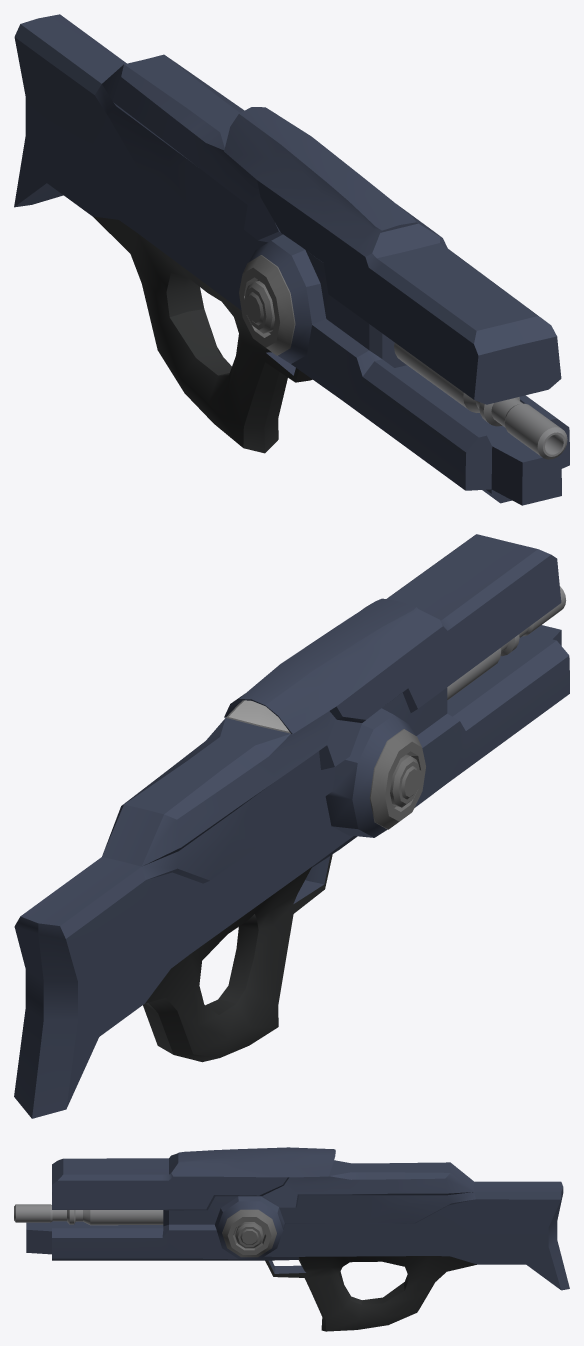
File: ALF_WEAPON_V3.fbx
3 renders of one model, top to bottom at view 1: azimuth 30°, elevation 25°; view 2: azimuth 150°, elevation 25°; view 3: azimuth 270°, elevation 25°, orthographic. The views are drawn at different scales.
Parts seen in each view (by area): view 1: PRACA NAD TYM.008, Cylinder_007.003, PRACA NAD TYM.010; view 2: PRACA NAD TYM.008, PRACA NAD TYM.010, Cylinder_007.003; view 3: PRACA NAD TYM.008, Cylinder_007.003, PRACA NAD TYM.009.
Part boxes in pixels (box(x1,y1,x2,y2)): PRACA NAD TYM.008: box(14, 14, 569, 505); Cylinder_007.003: box(394, 342, 567, 459); PRACA NAD TYM.010: box(239, 255, 295, 355); PRACA NAD TYM.008: box(14, 534, 569, 1118); PRACA NAD TYM.010: box(369, 729, 425, 829); Cylinder_007.003: box(447, 586, 566, 699); PRACA NAD TYM.008: box(26, 1147, 569, 1331); Cylinder_007.003: box(14, 1204, 163, 1225); PRACA NAD TYM.009: box(222, 1209, 276, 1257).
Size of the model in its own units: 2.23 by 4.54 by 12.72.
